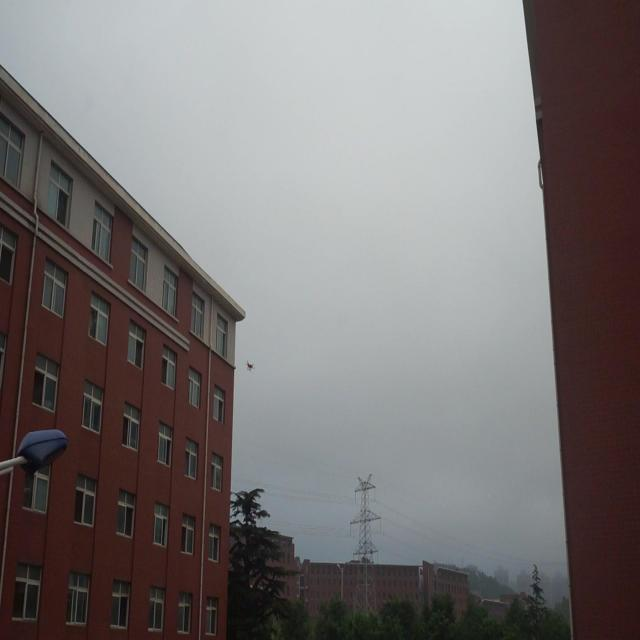UAV: (245, 360, 256, 372)
